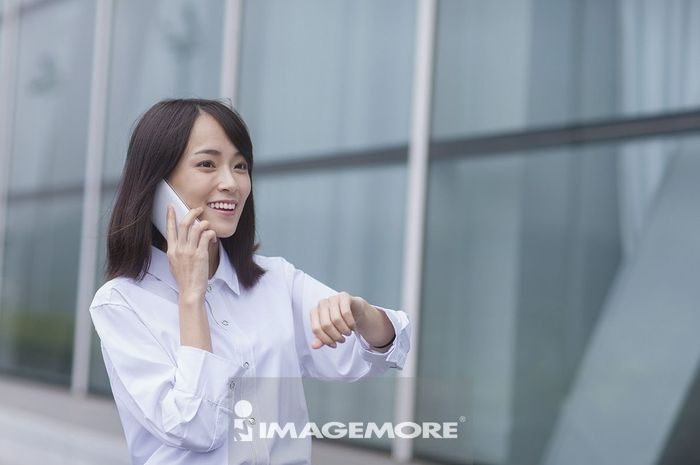phone: (152, 179, 207, 250)
talk: (146, 143, 252, 306)
